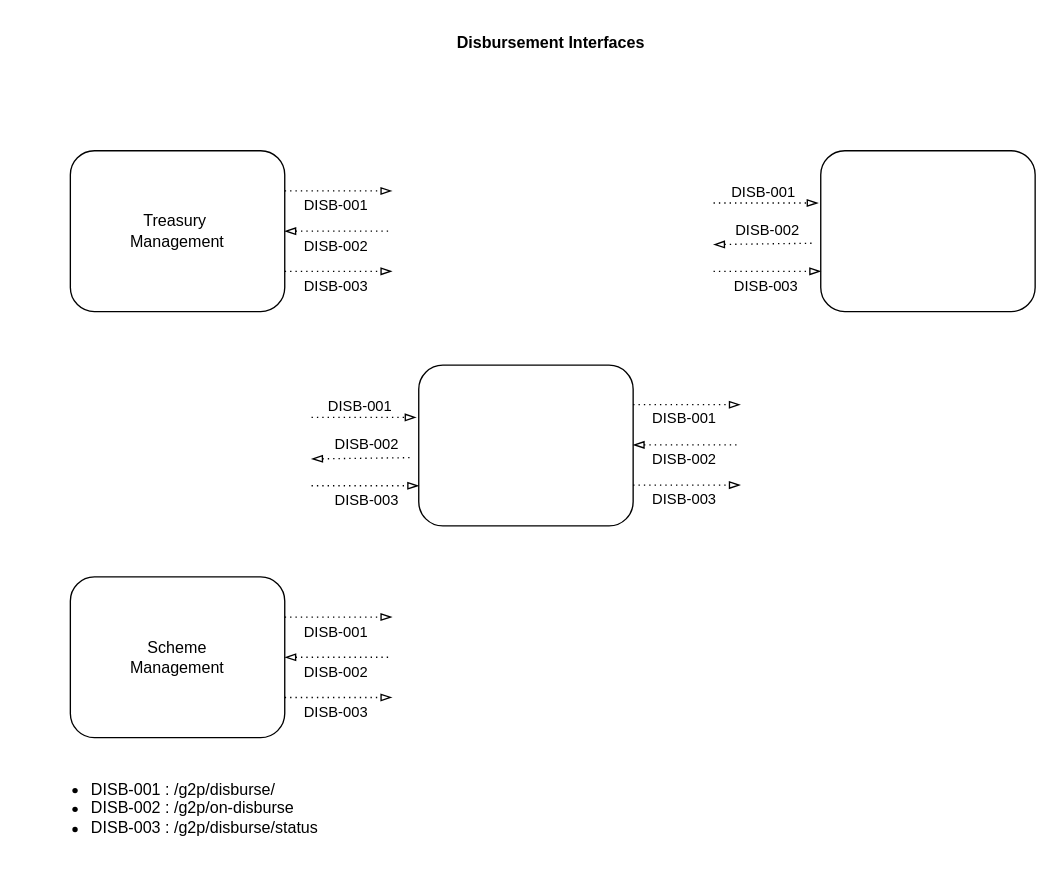
Some shapes in this 1059 by 884 pixel diagram are drawn without their labels. Here are the shapes that lost their labels. From the top down, the box of each, then its label:
(819, 149, 1035, 312): Payer Bank (FSP1)
(417, 364, 633, 526): Payment & Settlement Switch
